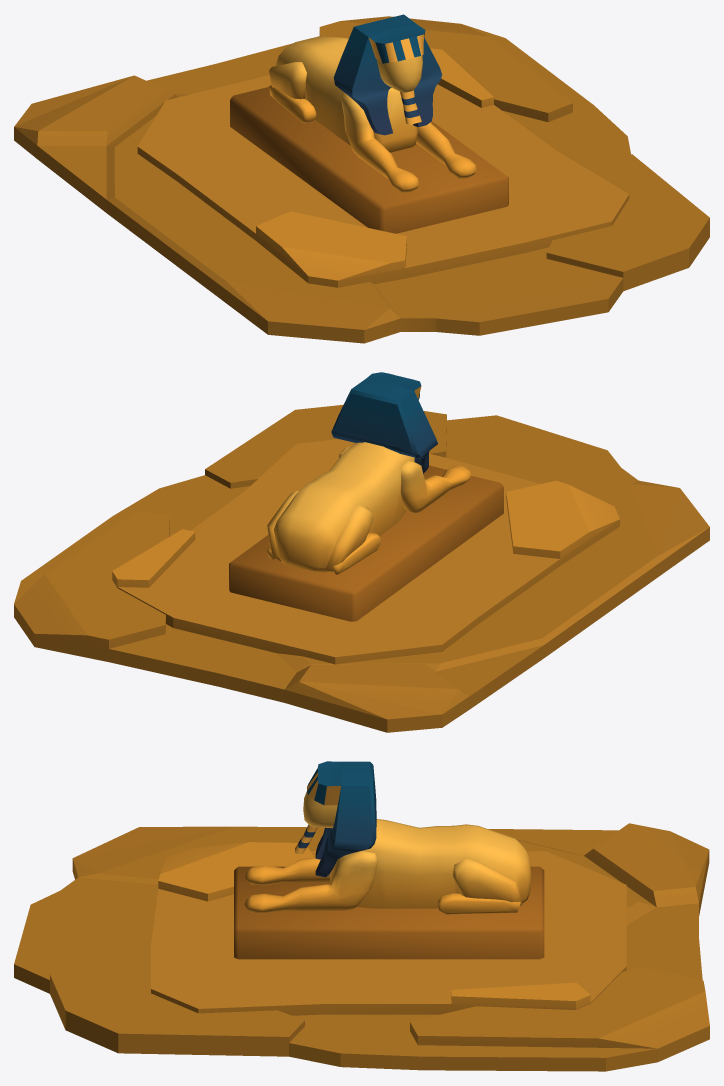
File: Sphinx.fbx
3 renders of one model, top to bottom at view 1: azimuth 30°, elevation 25°; view 2: azimuth 150°, elevation 25°; view 3: azimuth 270°, elevation 25°, orthographic. The views are drawn at different scales.
Parts seen in each view (by area): view 1: Tomb_Platform_02, Sphinx, Sphinx_stand; view 2: Tomb_Platform_02, Sphinx, Sphinx_stand; view 3: Tomb_Platform_02, Sphinx, Sphinx_stand.
Part boxes in pixels (box(x1,y1,x2,y2)): Tomb_Platform_02: box(14, 16, 709, 343); Sphinx: box(268, 14, 476, 192); Sphinx_stand: box(230, 87, 508, 233); Tomb_Platform_02: box(14, 404, 709, 732); Sphinx: box(267, 372, 471, 574); Sphinx_stand: box(229, 465, 503, 621); Tomb_Platform_02: box(14, 823, 709, 1071); Sphinx: box(244, 761, 530, 914); Sphinx_stand: box(234, 866, 544, 959).
Size of the model in its own units: 477 by 173 by 607.
